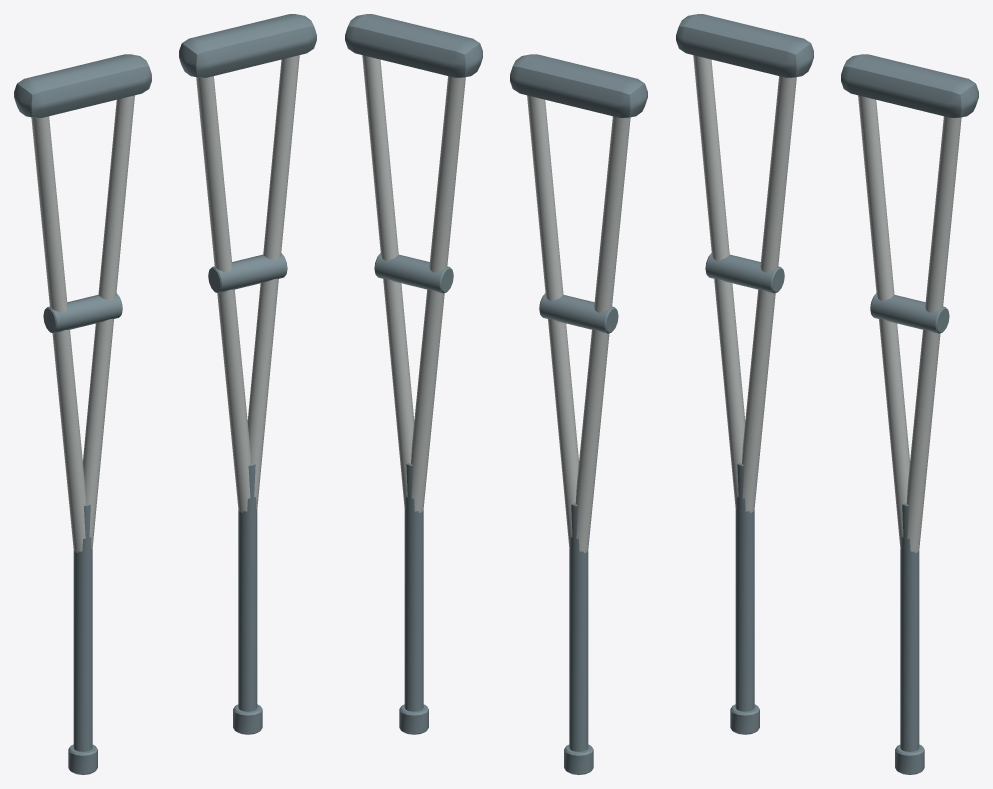
Rendered from crutches.glb.
The picture shows the model from 3 angles, left to right: view 1: azimuth 30°, elevation 25°; view 2: azimuth 150°, elevation 25°; view 3: azimuth 330°, elevation 25°; orthographic projection.
Visible parts, largest first — view 1: crutch_fork.002, crutch_fork, crutch_fork.001, crutch_fork.003, underarm_pad, underarm_pad.001, crutch_tip.001, crutch_tip, hand_grip, hand_grip.001, rubber_tip.001, rubber_tip; view 2: crutch_fork.002, crutch_fork, crutch_fork.001, crutch_fork.003, underarm_pad, underarm_pad.001, crutch_tip.001, crutch_tip, hand_grip, hand_grip.001, rubber_tip.001, rubber_tip; view 3: crutch_fork.001, crutch_fork.003, crutch_fork.002, crutch_fork, underarm_pad.001, underarm_pad, crutch_tip, crutch_tip.001, hand_grip, hand_grip.001, rubber_tip, rubber_tip.001.
Part boxes in pixels (<box>): crutch_fork.002: <box>196,76,250,512</box>; crutch_fork: <box>31,116,86,552</box>; crutch_fork.001: <box>83,95,134,548</box>; crutch_fork.003: <box>247,55,299,508</box>; underarm_pad: <box>14,54,151,118</box>; underarm_pad.001: <box>179,14,316,77</box>; crutch_tip.001: <box>238,463,257,711</box>; crutch_tip: <box>73,503,92,751</box>; hand_grip: <box>43,293,122,333</box>; hand_grip.001: <box>208,253,287,293</box>; rubber_tip.001: <box>233,704,262,734</box>; rubber_tip: <box>68,744,97,774</box>; crutch_fork.002: <box>411,76,465,512</box>; crutch_fork: <box>575,116,630,552</box>; crutch_fork.001: <box>527,95,578,548</box>; crutch_fork.003: <box>362,55,414,508</box>; underarm_pad: <box>510,54,647,118</box>; underarm_pad.001: <box>345,14,482,77</box>; crutch_tip.001: <box>404,463,423,711</box>; crutch_tip: <box>569,503,588,751</box>; hand_grip: <box>539,293,618,333</box>; hand_grip.001: <box>374,253,453,293</box>; rubber_tip.001: <box>399,704,428,734</box>; rubber_tip: <box>564,744,593,774</box>; crutch_fork.001: <box>742,76,796,512</box>; crutch_fork.003: <box>906,116,961,552</box>; crutch_fork.002: <box>858,95,909,548</box>; crutch_fork: <box>693,55,745,508</box>; underarm_pad.001: <box>841,54,978,118</box>; underarm_pad: <box>676,14,813,77</box>; crutch_tip: <box>735,463,754,711</box>; crutch_tip.001: <box>900,503,919,751</box>; hand_grip: <box>705,253,784,293</box>; hand_grip.001: <box>870,293,949,333</box>; rubber_tip: <box>730,704,759,734</box>; rubber_tip.001: <box>895,744,924,774</box>.
Bounding box in the file's own units: 0.57 × 1.3 × 0.075.
